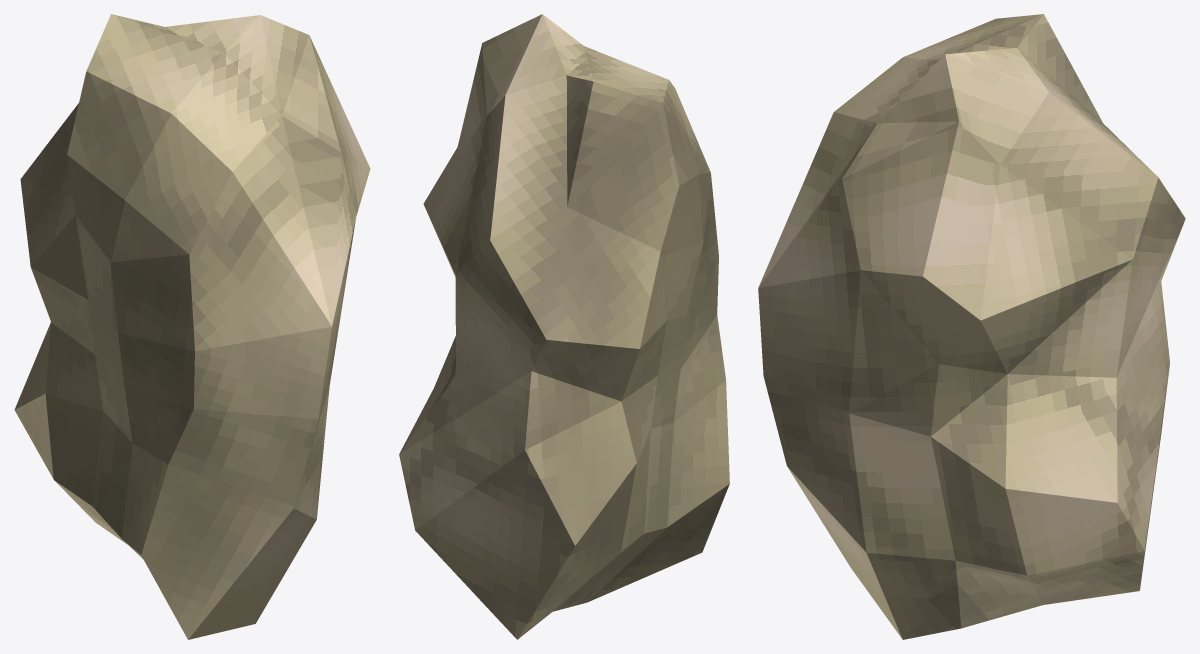
Rendered from ore.glb.
3 renders of one model, left to right at view 1: azimuth 30°, elevation 25°; view 2: azimuth 150°, elevation 25°; view 3: azimuth 270°, elevation 25°, orthographic. The views are drawn at different scales.
Visible parts, largest first — view 1: Plane; view 2: Plane; view 3: Plane.
Boxes of the visible parts, left/top/right/bottom form: Plane: left=14, top=14, right=370, bottom=639; Plane: left=399, top=14, right=729, bottom=639; Plane: left=758, top=14, right=1185, bottom=639.
Bounding box in the file's own units: 1.77 × 3.65 × 2.35.
Materials: 1 (1 with a texture image).
